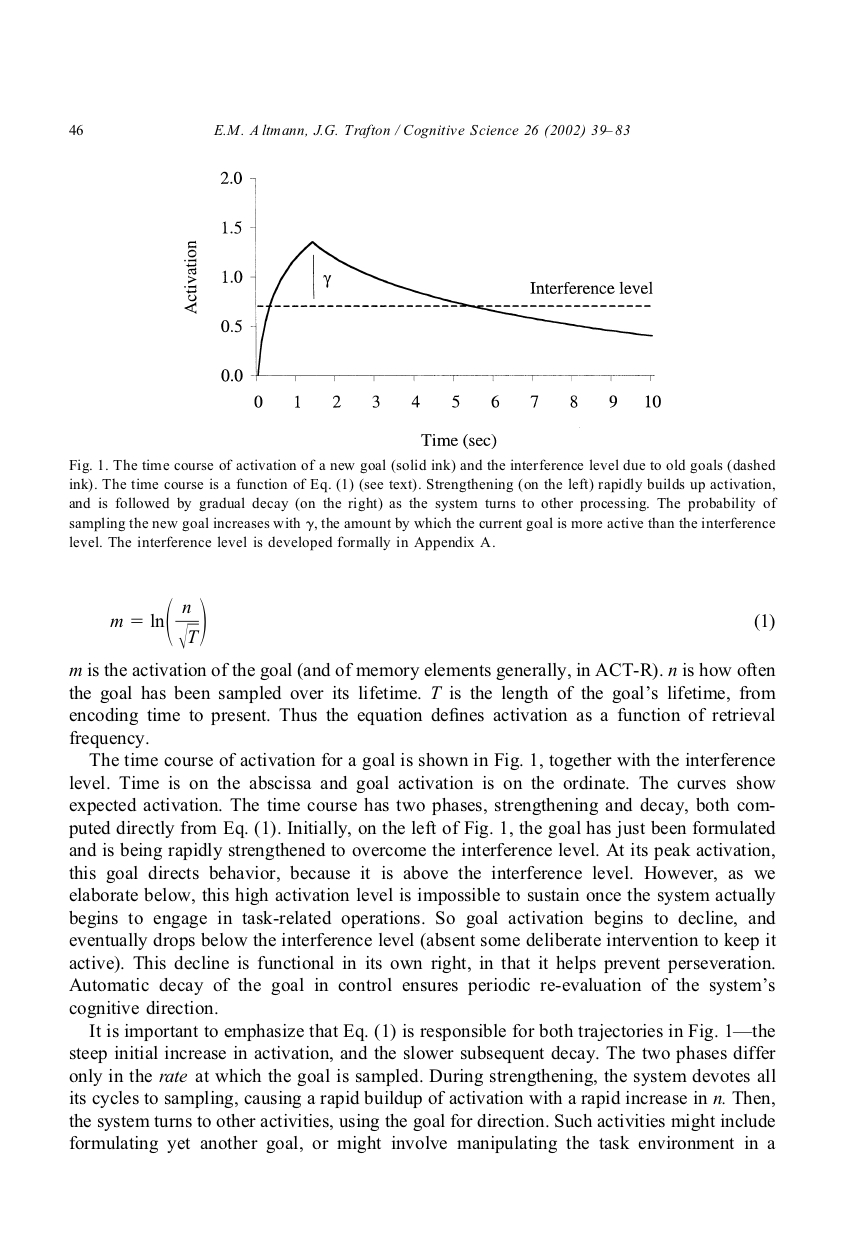figure: (184, 171, 660, 407)
formula: (110, 597, 774, 649)
